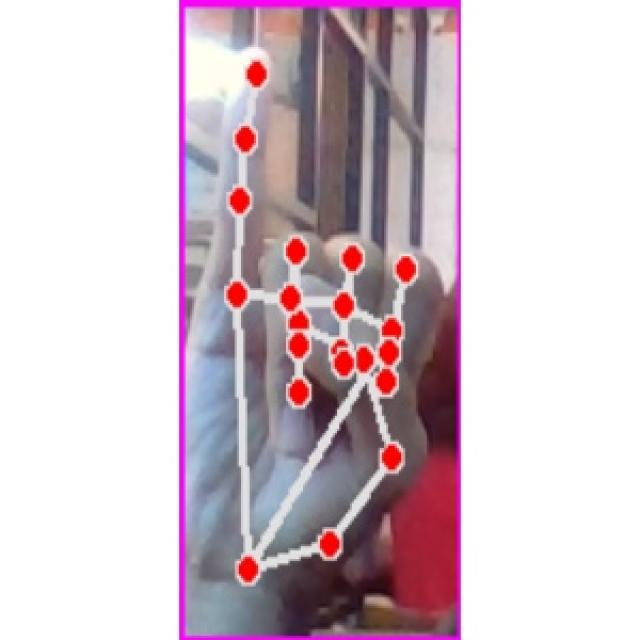I: (191, 37, 451, 618)
